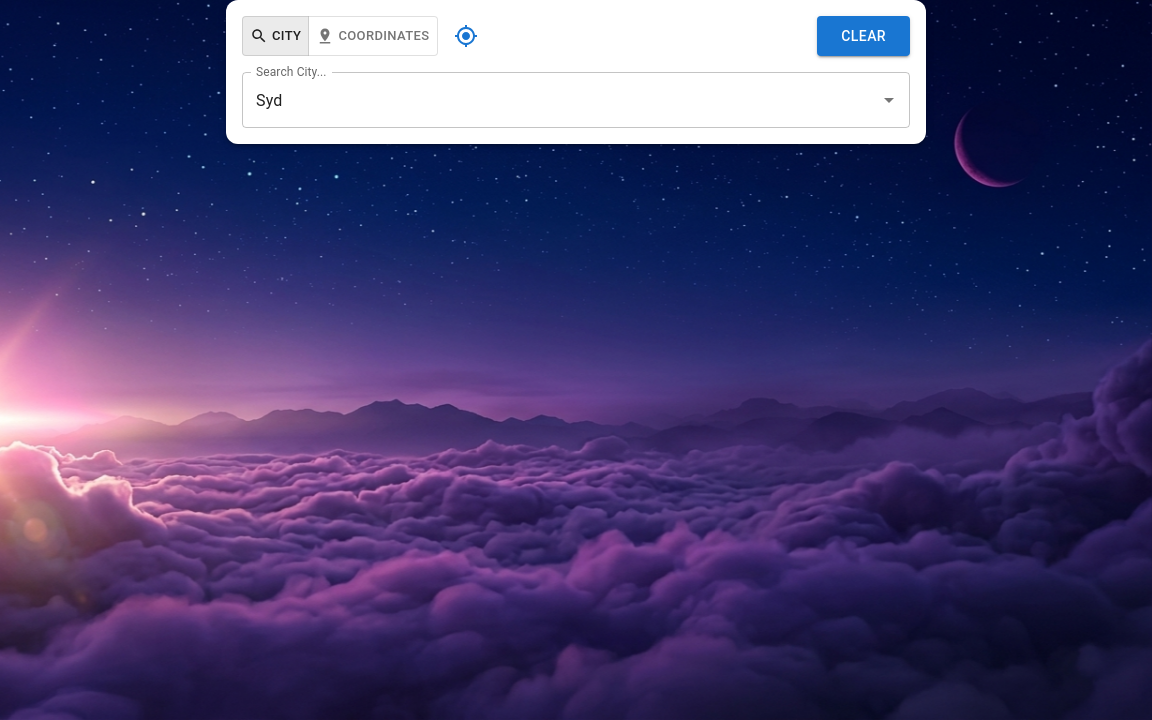
Scenario: SearchBar Component › City Mode › renders options dropdown when options are supplied by useCitySearch hook
Click the dropdown labelled "Search City...": (561, 100) [251, 81, 871, 119]
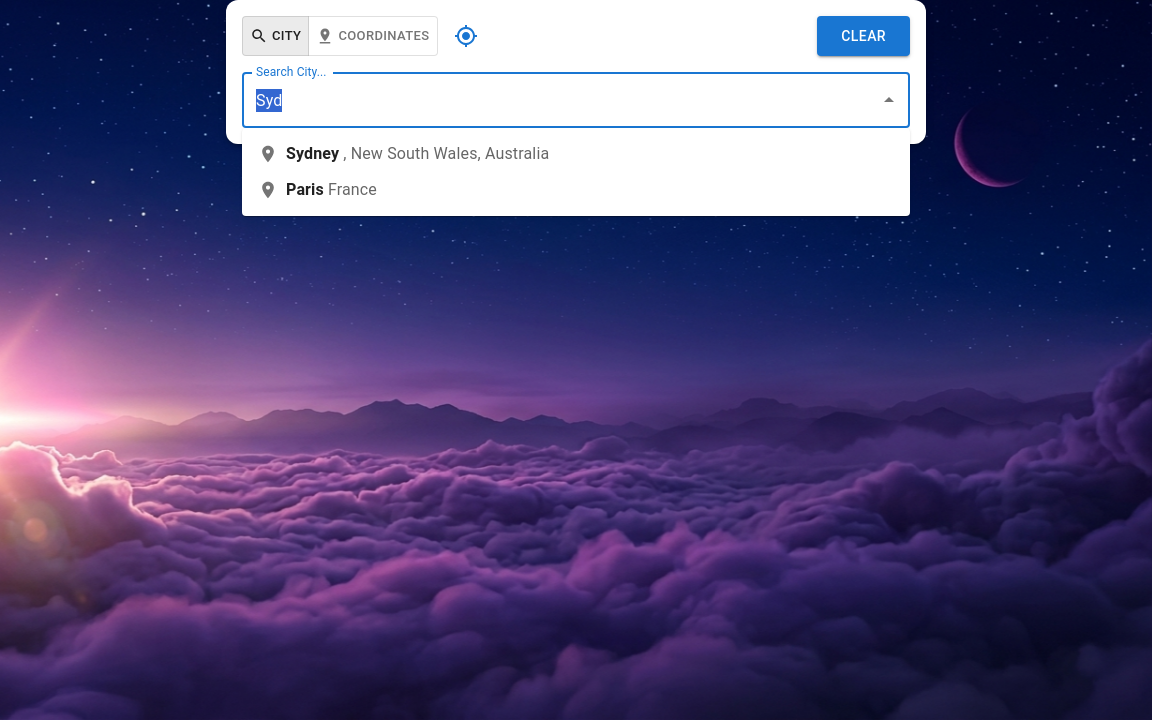
Check: the text "Sydney" is shown, box [286, 144, 339, 163]
Check: the text ", New South Wales, Australia" is shown, box [343, 144, 549, 163]
